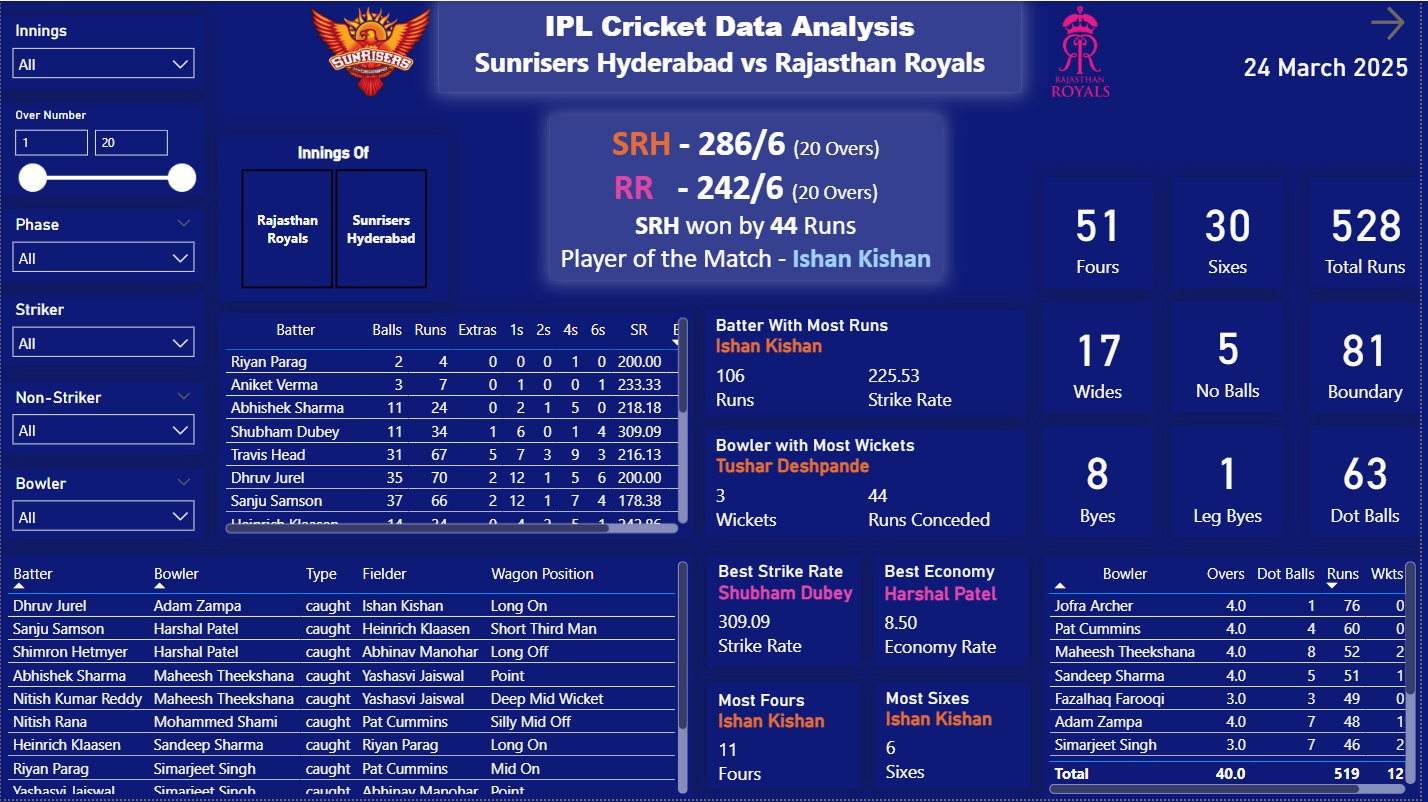

The dashboard page shown, as its layout file describes it:
{"tool":"powerbi","page":{"name":"Cricket Data Anlaysis","canvas":[1280,720],"ordinal":0},"visuals":[{"type":"card","title":"Innings 1","fields":{"Values":["Cricket Data.Total Runs"]},"box":[1180,158.7,100.3,100.3],"z":0},{"type":"slicer","fields":{"Values":["Cricket Data.Striker"]},"box":[0,265.3,184,63.6],"z":1000},{"type":"slicer","fields":{"Values":["Cricket Data.Bowler"]},"box":[0,421.8,184,63.6],"z":2000},{"type":"tableEx","fields":{"Values":["Cricket Data.Striker","Cricket Data.Balls Faced","Sum(Cricket Data.Batter Runs)","Cricket Data.Extras","Cricket Data.Singles","Cricket Data.Twos","Cricket Data.Fours","Cricket Data.Sixes","Cricket Data.Strike Rate","Cricket Data.Boundary %"]},"box":[196.1,280.7,428.3,204],"z":3000},{"type":"tableEx","fields":{"Values":["Cricket Data.Bowler","Cricket Data.Overs Bowled","Cricket Data.Dot Balls Bowled","Cricket Data.Runs Conceded","Cricket Data.Wickets Taken","Cricket Data.Economy Rate"]},"box":[938.9,500.4,341.5,219.8],"z":4000},{"type":"card","fields":{"Values":["Sum(Cricket Data.Leg Byes)"]},"box":[1056.5,383.7,100.3,100.3],"z":5000},{"type":"card","fields":{"Values":["Sum(Cricket Data.No Balls)"]},"box":[1056.5,270,100.3,100.3],"z":6000},{"type":"card","fields":{"Values":["Sum(Cricket Data.Wides)"]},"box":[939.1,271.2,100.3,100.3],"z":7000},{"type":"slicer","fields":{"Values":["Cricket Data.Over Number"]},"box":[0,91.6,184,84.4],"z":8000},{"type":"slicer","fields":{"Values":["Cricket Data.Phase"]},"box":[0,188.2,184,64.8],"z":9000},{"type":"tableEx","fields":{"Values":["Min(Cricket Data.Striker)","Cricket Data.Bowler","Cricket Data.Dismissal Type","Cricket Data.Dismissal Fielder","Cricket Data.Wagon Position"]},"box":[0,500.4,624.4,219.8],"z":10000},{"type":"slicer","fields":{"Values":["Cricket Data.Innings"]},"box":[0,13.4,184,66],"z":11000},{"type":"textbox","box":[494.3,103.9,353.4,148],"z":12000},{"type":"card","fields":{"Values":["Sum(Cricket Data.Byes)"]},"box":[939.1,383.7,100,100],"z":13000},{"type":"multiRowCard","title":"Batter With Most Runs","fields":{"Values":["Sum(Cricket Data.Batter Runs)","Striker Status.Striker","Cricket Data.Strike Rate"]},"box":[635,278.5,289.8,96.6],"z":14000},{"type":"card","fields":{"Values":["Cricket Data.DotBalls"]},"box":[1180,383.7,100.3,100.3],"z":15000},{"type":"multiRowCard","title":"Bowler with Most Wickets","fields":{"Values":["Cricket Data.Wickets Taken","Cricket Data.Bowler","Cricket Data.Runs Conceded"]},"box":[634.8,387.1,289.7,95.8],"z":16000},{"type":"card","fields":{"Values":["Sum(Cricket Data.Boundary)"]},"box":[1180,271.2,100.3,100.3],"z":17000},{"type":"multiRowCard","title":"Most Fours","fields":{"Values":["Striker Status.Striker","Cricket Data.Fours"]},"box":[636.6,614.5,138.6,95.8],"z":18000},{"type":"multiRowCard","title":"Most Sixes","fields":{"Values":["Striker Status.Striker","Cricket Data.Sixes"]},"box":[787.6,614.5,139.8,95.8],"z":19000},{"type":"multiRowCard","title":"Best Strike Rate","fields":{"Values":["Striker Status.Striker","Cricket Data.Strike Rate"]},"box":[636.8,500.4,138.6,99.2],"z":20000},{"type":"multiRowCard","title":"Best Economy","fields":{"Values":["Cricket Data.Bowler","Cricket Data.Economy Rate"]},"box":[786.7,500.4,139.8,99.2],"z":21000},{"type":"slicer","fields":{"Values":["Cricket Data.Non-Striker"]},"box":[0,343.5,184,64.8],"z":22000},{"type":"image","box":[272.8,0,121.7,91.3],"z":23000},{"type":"image","box":[926.5,0,93.6,91.3],"z":24000},{"type":"textbox","box":[394.5,0,525.2,82.3],"z":25000},{"type":"slicer","title":"Innings Of","fields":{"Values":["Cricket Data.Batting Team"]},"box":[196,121,207,150],"z":26000},{"type":"card","fields":{"Values":["Cricket Data.Fours"]},"box":[939.1,158.7,100.3,100.3],"z":27000},{"type":"card","fields":{"Values":["Cricket Data.Sixes"]},"box":[1056.5,158.7,100.3,100.3],"z":28000},{"type":"actionButton","box":[1230.2,0,50.1,40.4],"z":29000},{"type":"card","fields":{"Values":["Min(Cricket Data.Date)"]},"box":[1110,42.8,170,33],"z":30000}]}

Visuals, with their boxes in screenshot pixels (x1, y1, x2, y2), scaled from the page's 1280x720 canvas onto the 1428x802 screenshot:
"Innings 1" card: bbox=[1316, 177, 1427, 288]
slicer - Cricket Data.Striker: bbox=[0, 296, 205, 366]
slicer - Cricket Data.Bowler: bbox=[0, 470, 205, 541]
tableEx - Cricket Data.Striker x Cricket Data.Balls Faced: bbox=[219, 313, 697, 540]
tableEx - Cricket Data.Bowler x Cricket Data.Overs Bowled: bbox=[1047, 557, 1427, 801]
card - Sum(Cricket Data.Leg Byes): bbox=[1179, 427, 1291, 539]
card - Sum(Cricket Data.No Balls): bbox=[1179, 301, 1291, 412]
card - Sum(Cricket Data.Wides): bbox=[1048, 302, 1160, 414]
slicer - Cricket Data.Over Number: bbox=[0, 102, 205, 196]
slicer - Cricket Data.Phase: bbox=[0, 210, 205, 282]
tableEx - Min(Cricket Data.Striker) x Cricket Data.Bowler: bbox=[0, 557, 697, 801]
slicer - Cricket Data.Innings: bbox=[0, 15, 205, 88]
textbox: bbox=[551, 116, 946, 281]
card - Sum(Cricket Data.Byes): bbox=[1048, 427, 1159, 539]
"Batter With Most Runs" multiRowCard: bbox=[708, 310, 1032, 418]
card - Cricket Data.DotBalls: bbox=[1316, 427, 1427, 539]
"Bowler with Most Wickets" multiRowCard: bbox=[708, 431, 1031, 538]
card - Sum(Cricket Data.Boundary): bbox=[1316, 302, 1427, 414]
"Most Fours" multiRowCard: bbox=[710, 684, 865, 791]
"Most Sixes" multiRowCard: bbox=[879, 684, 1035, 791]
"Best Strike Rate" multiRowCard: bbox=[710, 557, 865, 668]
"Best Economy" multiRowCard: bbox=[878, 557, 1034, 668]
slicer - Cricket Data.Non-Striker: bbox=[0, 383, 205, 455]
image: bbox=[304, 0, 440, 102]
image: bbox=[1034, 0, 1138, 102]
textbox: bbox=[440, 0, 1026, 92]
"Innings Of" slicer: bbox=[219, 135, 450, 302]
card - Cricket Data.Fours: bbox=[1048, 177, 1160, 288]
card - Cricket Data.Sixes: bbox=[1179, 177, 1291, 288]
actionButton: bbox=[1372, 0, 1427, 45]
card - Min(Cricket Data.Date): bbox=[1238, 48, 1427, 84]
